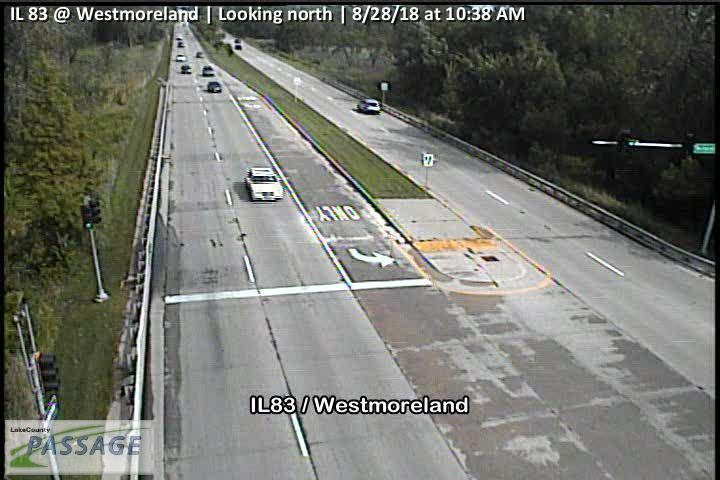SUV: (357, 97, 381, 113)
Sedan: (244, 167, 284, 201), (208, 81, 222, 93), (202, 66, 214, 76), (181, 64, 193, 74), (175, 54, 187, 62)
